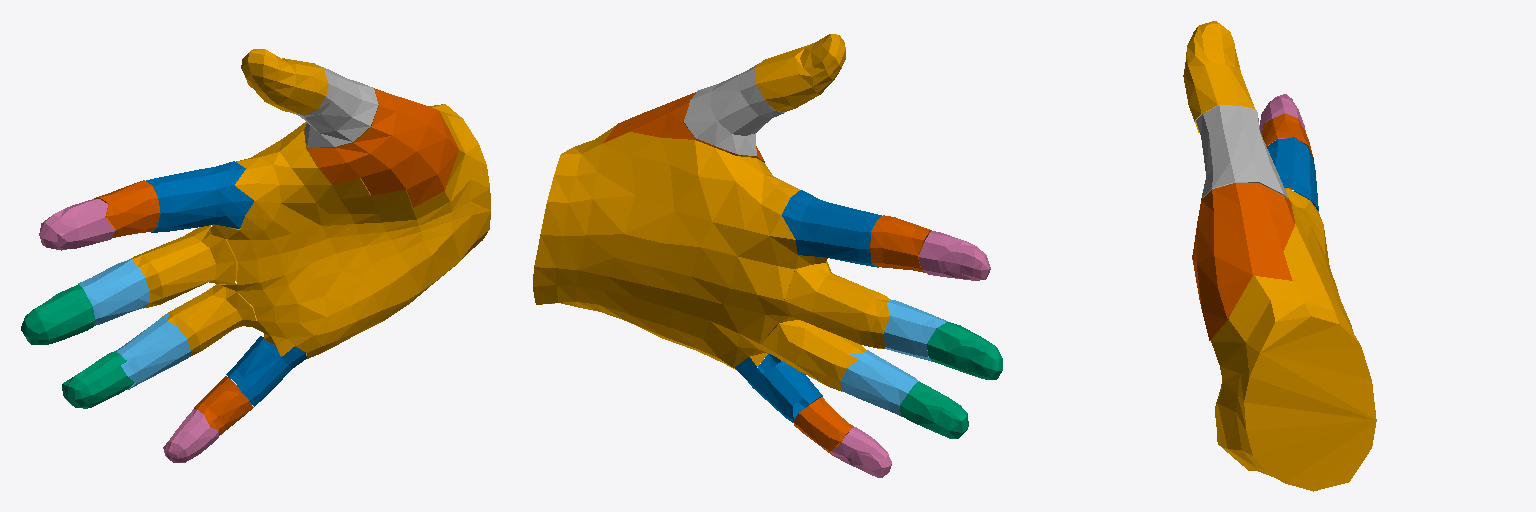
URDF robot description (mano_right):
<?xml version="1.0" ?>
<robot name="mano_right" version="1.0">
  <link name="palm">
    <inertial>
      <mass value="1.38"/>
      <inertia ixx="5.2623e-05" ixy="-8.4e-07" ixz="-9.77e-07" iyy="0.000138732" iyz="-1.535e-06" izz="9.6299e-05"/>
    </inertial>
    <visual name="palm">
      <origin xyz="0.0 0.0 0.0" rpy="0.0 0.0 0.0"/>
      <geometry>
        <mesh filename="./meshes/vis_palm.stl"/>
      </geometry>
    </visual>
    <collision name="palm">
      <origin xyz="0.0 0.0 0.0" rpy="0.0 0.0 0.0"/>
      <geometry>
        <mesh filename="./meshes/col_palm.stl"/>
      </geometry>
    </collision>
  </link>
  <joint name="palm_n0" type="fixed">
    <origin xyz="-0.054 -0.002 0.0" rpy="1.571 0.0 0.0"/>
    <parent link="palm"/>
    <child link="palm_dummy"/>
  </joint>
  <link name="palm_dummy"/>
  <joint name="palm_normal" type="fixed">
    <origin xyz="-0.00637 0.0 0.01446" rpy="0.0 -0.0 0.0"/>
    <parent link="palm_dummy"/>
    <child link="palm_dummy2"/>
  </joint>
  <link name="palm_dummy2"/>
  <link name="index1_y"/>
  <link name="index1">
    <inertial>
      <mass value="0.1"/>
      <inertia ixx="7.79e-07" ixy="0.0" ixz="0.0" iyy="7.79e-07" iyz="0.0" izz="2.34e-07"/>
    </inertial>
    <visual name="index1">
      <origin xyz="0.0 0.0 6.640738306473715e-19" rpy="-1.5708017159651948 -0.057486263518140845 3.1358600647747914"/>
      <geometry>
        <mesh filename="./meshes/vis_index1.stl"/>
      </geometry>
    </visual>
    <collision name="index1">
      <origin xyz="0.016251407565293894 -0.0008692487532202749 -0.0030226079388060954" rpy="-1.750979988777681 0.10812967952372607 -1.664841237676654"/>
      <geometry>
        <cylinder radius="0.008" length="0.03"/>
      </geometry>
    </collision>
  </link>
  <link name="index2">
    <inertial>
      <mass value="0.075"/>
      <inertia ixx="2.8e-07" ixy="0.0" ixz="0.0" iyy="2.8e-07" iyz="0.0" izz="1.57e-07"/>
    </inertial>
    <visual name="index2">
      <origin xyz="-1.3877787807814457e-17 0.0 -8.673617379884035e-19" rpy="-1.570939050554094 -0.05784684019623524 3.136079605645372"/>
      <geometry>
        <mesh filename="./meshes/vis_index2.stl"/>
      </geometry>
    </visual>
    <collision name="index2">
      <origin xyz="0.011223571320901935 0.00017731718179460508 -2.328447496400608e-06" rpy="-1.570776387214974 -0.058305435818341154 -1.5715541770352468"/>
      <geometry>
        <cylinder radius="0.008" length="0.018"/>
      </geometry>
    </collision>
  </link>
  <link name="index3">
    <inertial>
      <mass value="0.03"/>
      <inertia ixx="2.59e-07" ixy="0.0" ixz="0.0" iyy="2.59e-07" iyz="0.0" izz="9.3e-08"/>
    </inertial>
    <visual name="index3">
      <origin xyz="0.0 0.0 0.0" rpy="-1.570705010915804 -0.05900028055626145 3.1361886226697298"/>
      <geometry>
        <mesh filename="./meshes/vis_index3.stl"/>
      </geometry>
    </visual>
    <collision name="index3">
      <origin xyz="0.013000406267838374 0.000994704393106828 2.0367320369514474e-07" rpy="-1.591650457972706 -0.036189062171319904 -1.523746877955797"/>
      <geometry>
        <cylinder radius="0.007" length="0.023"/>
      </geometry>
    </collision>
  </link>
  <link name="middle1_y"/>
  <link name="middle1">
    <inertial>
      <mass value="0.1"/>
      <inertia ixx="7.01e-07" ixy="0.0" ixz="0.0" iyy="7.01e-07" iyz="0.0" izz="2.25e-07"/>
    </inertial>
    <visual name="middle1">
      <origin xyz="0.0 1.734723475976807e-18 -8.673617379884035e-19" rpy="-1.5610100998257084 -0.0537098788242584 2.970714580051759"/>
      <geometry>
        <mesh filename="./meshes/vis_middle1.stl"/>
      </geometry>
    </visual>
    <collision name="middle1">
      <origin xyz="0.016072690120068994 -0.00018405787003569624 -0.0016231928427376098" rpy="-1.6846698748117068 0.06961903138315323 -1.5721058729968704"/>
      <geometry>
        <cylinder radius="0.008" length="0.029"/>
      </geometry>
    </collision>
  </link>
  <link name="middle2">
    <inertial>
      <mass value="0.075"/>
      <inertia ixx="3.15e-07" ixy="0.0" ixz="0.0" iyy="3.15e-07" iyz="0.0" izz="1.65e-07"/>
    </inertial>
    <visual name="middle2">
      <origin xyz="-2.7755575615628914e-17 -1.734723475976807e-18 8.673617379884035e-19" rpy="-1.5614269699136616 -0.05318068626635879 2.969941612588744"/>
      <geometry>
        <mesh filename="./meshes/vis_middle2.stl"/>
      </geometry>
    </visual>
    <collision name="middle2">
      <origin xyz="0.01203596562465758 7.942331888032852e-05 -0.00035947658961115256" rpy="-1.5705713889744408 -0.06421602712315518 -1.5711846195065278"/>
      <geometry>
        <cylinder radius="0.008" length="0.019"/>
      </geometry>
    </collision>
  </link>
  <link name="middle3">
    <inertial>
      <mass value="0.03"/>
      <inertia ixx="2.96e-07" ixy="0.0" ixz="0.0" iyy="2.96e-07" iyz="0.0" izz="9.8e-08"/>
    </inertial>
    <visual name="middle3">
      <origin xyz="0.0 3.469446951953614e-18 8.673617379884035e-19" rpy="-1.5617995591237113 -0.05324637192871311 2.969951226852396"/>
      <geometry>
        <mesh filename="./meshes/vis_middle3.stl"/>
      </geometry>
    </visual>
    <collision name="middle3">
      <origin xyz="0.012999999004413423 -5.091829999437302e-06 -0.000999999979258612" rpy="-1.6483324722821673 0.030946694520907068 -1.5414265478654203"/>
      <geometry>
        <cylinder radius="0.007" length="0.024"/>
      </geometry>
    </collision>
  </link>
  <link name="pinky1_y"/>
  <link name="pinky1">
    <inertial>
      <mass value="0.8"/>
      <inertia ixx="2.1e-07" ixy="0.0" ixz="0.0" iyy="2.1e-07" iyz="0.0" izz="1.15e-07"/>
    </inertial>
    <visual name="pinky1">
      <origin xyz="-2.7755575615628914e-17 3.2526065174565133e-18 0.0" rpy="-1.5511301853736772 -0.03008307255032224 2.562933336960624"/>
      <geometry>
        <mesh filename="./meshes/vis_pinky1.stl"/>
      </geometry>
    </visual>
    <collision name="pinky1">
      <origin xyz="0.010064782709332606 0.000825401481627012 -0.00013733684154931025" rpy="-1.6094729062854525 0.007745155228131785 -1.5158358874542248"/>
      <geometry>
        <cylinder radius="0.007" length="0.019"/>
      </geometry>
    </collision>
  </link>
  <link name="pinky2">
    <inertial>
      <mass value="0.055"/>
      <inertia ixx="1.62e-07" ixy="0.0" ixz="0.0" iyy="1.62e-07" iyz="0.0" izz="1.04e-07"/>
    </inertial>
    <visual name="pinky2">
      <origin xyz="1.3877787807814457e-17 -1.179069862577986e-18 1.734723475976807e-18" rpy="-1.5513111193803546 -0.03020621943054652 2.562930596453396"/>
      <geometry>
        <mesh filename="./meshes/vis_pinky2.stl"/>
      </geometry>
    </visual>
    <collision name="pinky2">
      <origin xyz="0.009034827415624998 -0.0004979846865985825 -0.00035200116730547666" rpy="-1.5698216312847317 -0.06748068434619263 -1.5718840222025539"/>
      <geometry>
        <cylinder radius="0.007" length="0.015"/>
      </geometry>
    </collision>
  </link>
  <link name="pinky3">
    <inertial>
      <mass value="0.02"/>
      <inertia ixx="1.27e-07" ixy="0.0" ixz="0.0" iyy="1.27e-07" iyz="0.0" izz="5.8e-08"/>
    </inertial>
    <visual name="pinky3">
      <origin xyz="1.3877787807814457e-17 2.8417955380381776e-19 0.0" rpy="-1.5513226752598284 -0.03028092267935988 2.563894101777485"/>
      <geometry>
        <mesh filename="./meshes/vis_pinky3.stl"/>
      </geometry>
    </visual>
    <collision name="pinky3">
      <origin xyz="0.009999591823954044 -0.0010040733602824804 -2.0367320369525809e-07" rpy="-1.5408609538639328 -0.11475331256989224 -1.63981123625247"/>
      <geometry>
        <cylinder radius="0.006" length="0.018"/>
      </geometry>
    </collision>
  </link>
  <link name="ring1_y"/>
  <link name="ring1">
    <inertial>
      <mass value="0.1"/>
      <inertia ixx="5.44e-07" ixy="0.0" ixz="0.0" iyy="5.44e-07" iyz="0.0" izz="2.04e-07"/>
    </inertial>
    <visual name="ring1">
      <origin xyz="0.0 0.0 0.0" rpy="-1.549930616763803 -0.0658397627278577 2.8275616087261786"/>
      <geometry>
        <mesh filename="./meshes/vis_ring1.stl"/>
      </geometry>
    </visual>
    <collision name="ring1">
      <origin xyz="0.013953412685973492 -0.0019758099946853773 -0.0023234563219082273" rpy="-1.7115713691807355 0.07598289932535725 -1.7180895723953737"/>
      <geometry>
        <cylinder radius="0.008" length="0.026"/>
      </geometry>
    </collision>
  </link>
  <link name="ring2">
    <inertial>
      <mass value="0.075"/>
      <inertia ixx="3.68e-07" ixy="0.0" ixz="0.0" iyy="3.68e-07" iyz="0.0" izz="1.75e-07"/>
    </inertial>
    <visual name="ring2">
      <origin xyz="0.0 -4.336808689942018e-19 0.0" rpy="-1.550174638994129 -0.06519375095904853 2.8272120153716616"/>
      <geometry>
        <mesh filename="./meshes/vis_ring2.stl"/>
      </geometry>
    </visual>
    <collision name="ring2">
      <origin xyz="0.012320641355847671 0.000342470086276713 0.0002907074484452807" rpy="-1.5715550236130327 -0.09336298661990886 -1.5704557164791255"/>
      <geometry>
        <cylinder radius="0.008" length="0.02"/>
      </geometry>
    </collision>
  </link>
  <link name="ring3">
    <inertial>
      <mass value="0.03"/>
      <inertia ixx="2.73e-07" ixy="0.0" ixz="0.0" iyy="2.73e-07" iyz="0.0" izz="9.5e-08"/>
    </inertial>
    <visual name="ring3">
      <origin xyz="-2.7755575615628914e-17 2.6020852139652106e-18 0.0" rpy="-1.5499582192033026 -0.06473346436630288 2.8265175132789566"/>
      <geometry>
        <mesh filename="./meshes/vis_ring3.stl"/>
      </geometry>
    </visual>
    <collision name="ring3">
      <origin xyz="0.012999999004413391 -5.0918299994377434e-06 -0.0009999999792586131" rpy="-1.6236084859696813 -0.020678025218849455 -1.5895513697562302"/>
      <geometry>
        <cylinder radius="0.007" length="0.023"/>
      </geometry>
    </collision>
  </link>
  <link name="thumb1_x"/>
  <link name="thumb1_y"/>
  <link name="thumb1">
    <inertial>
      <mass value="0.125"/>
      <inertia ixx="8.55e-07" ixy="0.0" ixz="0.0" iyy="8.55e-07" iyz="0.0" izz="3.49e-07"/>
    </inertial>
    <visual name="thumb1">
      <origin xyz="-6.938893903907228e-18 0.0 5.204170427930421e-18" rpy="-2.519502652119659 0.37078574417049265 -2.6454005432135674"/>
      <geometry>
        <mesh filename="./meshes/vis_thumb1.stl"/>
      </geometry>
    </visual>
    <collision name="thumb1">
      <origin xyz="0.014459799348585798 0.0002969722042811933 -0.005275036522008336" rpy="-2.1815682453620857 0.8750738015297095 -2.042989529966102"/>
      <geometry>
        <cylinder radius="0.009" length="0.028"/>
      </geometry>
    </collision>
  </link>
  <link name="thumb2_y"/>
  <link name="thumb2">
    <inertial>
      <mass value="0.08"/>
      <inertia ixx="6.18e-07" ixy="0.0" ixz="0.0" iyy="6.18e-07" iyz="0.0" izz="3.07e-07"/>
    </inertial>
    <visual name="thumb2">
      <origin xyz="0.0 -1.734723475976807e-18 3.469446951953614e-18" rpy="-2.5191294479658772 0.370704633086108 -2.646305713990214"/>
      <geometry>
        <mesh filename="./meshes/vis_thumb2.stl"/>
      </geometry>
    </visual>
    <collision name="thumb2">
      <origin xyz="0.013925308909435637 0.00025964686841129365 -0.00013548166118211268" rpy="-1.5704566560179543 0.8738524928398956 -1.5708768265018667"/>
      <geometry>
        <cylinder radius="0.009" length="0.022"/>
      </geometry>
    </collision>
  </link>
  <link name="thumb3">
    <inertial>
      <mass value="0.06"/>
      <inertia ixx="8.07e-07" ixy="0.0" ixz="0.0" iyy="8.07e-07" iyz="0.0" izz="2.05e-07"/>
    </inertial>
    <visual name="thumb3">
      <origin xyz="1.3877787807814457e-17 5.204170427930421e-18 -5.204170427930421e-18" rpy="-2.519699323663934 0.3708079699855004 -2.646717137540718"/>
      <geometry>
        <mesh filename="./meshes/vis_thumb3.stl"/>
      </geometry>
    </visual>
    <collision name="thumb3">
      <origin xyz="0.01699999875551679 -6.517542408402159e-06 -0.00199999995851723" rpy="-1.7257968219290234 0.9043310237511367 -1.6678934474237674"/>
      <geometry>
        <cylinder radius="0.008" length="0.031"/>
      </geometry>
    </collision>
  </link>
  <joint name="j_index1y" type="revolute">
    <origin xyz="-0.088 -0.005 0.021" rpy="-1.5704145949538533 0.006351333953667675 -3.083565015870959"/>
    <axis xyz="0.0 0.0 1.0"/>
    <parent link="palm"/>
    <child link="index1_y"/>
    <limit effort="0.95" lower="-0.149" upper="0.549" velocity="8.48"/>
  </joint>
  <joint name="j_index1z" type="revolute">
    <origin xyz="0.0 0.0 0.0" rpy="0.0 0.0 0.0"/>
    <axis xyz="0.0 -1.0 0.0"/>
    <parent link="index1_y"/>
    <child link="index1"/>
    <limit effort="0.95" lower="-0.0" upper="1.5708" velocity="8.48"/>
  </joint>
  <joint name="j_index2z" type="revolute">
    <origin xyz="0.03226866542007503 -0.0027106091334550275 -0.006032066820989651" rpy="3.292364035772626e-21 -1.0810912229570374e-18 8.83465581440606e-19"/>
    <axis xyz="0.0 -1.0 0.0"/>
    <parent link="index1"/>
    <child link="index2"/>
    <limit effort="0.95" lower="-0.0" upper="1.7" velocity="8.48"/>
  </joint>
  <joint name="j_index3z" type="revolute">
    <origin xyz="0.022447142641803877 0.0003546343635892138 -4.656894992799941e-06" rpy="3.292364035772626e-21 -1.0810912229570374e-18 1.6103843452202556e-20"/>
    <axis xyz="0.0 -1.0 0.0"/>
    <parent link="index2"/>
    <child link="index3"/>
    <limit effort="0.95" lower="-0.0" upper="1.5708" velocity="8.48"/>
  </joint>
  <joint name="index_ft_0" type="fixed">
    <origin xyz="-0.01957 -0.00501 0.0" rpy="1.571 0.0 0.0"/>
    <parent link="index3"/>
    <child link="i_ft_d0"/>
  </joint>
  <joint name="index_ft" type="fixed">
    <origin xyz="0.04337 0.00627 -0.005002028127308367" rpy="-1.571 1.1427306284464894e-18 6.9031882767964374e-18"/>
    <parent link="i_ft_d0"/>
    <child link="i_ft_d1"/>
  </joint>
  <link name="i_ft_d0"/>
  <link name="i_ft_d1"/>
  <joint name="j_middle1y" type="revolute">
    <origin xyz="-0.095 -0.001 -0.003" rpy="-1.5604348799175514 0.1703316384375569 -3.0861488573810596"/>
    <axis xyz="0.0 0.0 1.0"/>
    <parent link="palm"/>
    <child link="middle1_y"/>
    <limit effort="0.95" lower="-0.27" upper="0.43" velocity="8.48"/>
  </joint>
  <joint name="j_middle1z" type="revolute">
    <origin xyz="0.0 0.0 0.0" rpy="-4.784239278720292e-17 1.5415251880448333e-16 -2.2766897347813412e-17"/>
    <axis xyz="0.0 -1.0 0.0"/>
    <parent link="middle1_y"/>
    <child link="middle1"/>
    <limit effort="0.95" lower="-0." upper="1.5708" velocity="8.48"/>
  </joint>
  <joint name="j_middle2z" type="revolute">
    <origin xyz="0.031155289679026477 -0.00023292748396321235 -0.0032083749474087825" rpy="-2.037880144919665e-18 3.3185257666311876e-18 1.4871705453224863e-17"/>
    <axis xyz="0.0 -1.0 0.0"/>
    <parent link="middle1"/>
    <child link="middle2"/>
    <limit effort="0.95" lower="-0." upper="1.7" velocity="8.48"/>
  </joint>
  <joint name="j_middle3z" type="revolute">
    <origin xyz="0.02319108767986333 0.00015281411750072207 0.0003874275033886338" rpy="1.381175528541728e-18 2.7304225978649645e-18 -2.2766897347813412e-17"/>
    <axis xyz="0.0 -1.0 0.0"/>
    <parent link="middle2"/>
    <child link="middle3"/>
    <limit effort="0.95" lower="-0." upper="1.5708" velocity="8.48"/>
  </joint>
  <joint name="middle_ft_0" type="fixed">
    <origin xyz="-0.02009 -0.00519 0.0" rpy="1.571 0.0 0.0"/>
    <parent link="middle3"/>
    <child link="m_ft_d0"/>
  </joint>
  <joint name="middle_ft" type="fixed">
    <origin xyz="0.04539 0.00514 -0.005181816303454909" rpy="-1.571 0.0 0.0"/>
    <parent link="m_ft_d0"/>
    <child link="m_ft_d1"/>
  </joint>
  <link name="m_ft_d0"/>
  <link name="m_ft_d1"/>
  <joint name="j_ring1y" type="revolute">
    <origin xyz="-0.082 -0.004 -0.027" rpy="-1.548889257896377 0.3129321517245829 -3.0693829508852963"/>
    <axis xyz="0.0 0.0 1.0"/>
    <parent link="palm"/>
    <child link="ring1_y"/>
    <limit effort="0.95" lower="-0.4" upper="0.3" velocity="8.48"/>
  </joint>
  <joint name="j_ring1z" type="revolute">
    <origin xyz="0.0 0.0 0.0" rpy="0.0 0.0 0.0"/>
    <axis xyz="0.0 -1.0 0.0"/>
    <parent link="ring1_y"/>
    <child link="ring1"/>
    <limit effort="0.95" lower="-0.0" upper="1.5708" velocity="8.48"/>
  </joint>
  <joint name="j_ring2z" type="revolute">
    <origin xyz="0.027929884210287415 -0.003952171002390184 -0.003647178686026161" rpy="-1.5999845841701573e-18 1.0979440290382384e-17 1.7874341583869335e-17"/>
    <axis xyz="0.0 -1.0 0.0"/>
    <parent link="ring1"/>
    <child link="ring2"/>
    <limit effort="0.95" lower="-0.0" upper="1.7" velocity="8.48"/>
  </joint>
  <joint name="j_ring3z" type="revolute">
    <origin xyz="0.024367038360698465 -0.00029560642797825387 -0.00040007295333075506" rpy="1.5308908501504744e-18 -5.034483976744698e-18 1.7874341583869335e-17"/>
    <axis xyz="0.0 -1.0 0.0"/>
    <parent link="ring2"/>
    <child link="ring3"/>
    <limit effort="0.95" lower="-0.0" upper="1.5708" velocity="8.48"/>
  </joint>
  <joint name="ring_ft_0" type="fixed">
    <origin xyz="-0.01771 -0.00587 0.001" rpy="1.571 0.0 0.0"/>
    <parent link="ring3"/>
    <child link="r_ft_d0"/>
  </joint>
  <joint name="ring_ft" type="fixed">
    <origin xyz="0.04195 0.00487 -0.00486258218353349" rpy="-1.571 7.73745279984852e-17 -1.954199600729421e-17"/>
    <parent link="r_ft_d0"/>
    <child link="r_ft_d1"/>
  </joint>
  <link name="r_ft_d0"/>
  <link name="r_ft_d1"/>
  <joint name="j_pinky1y" type="revolute">
    <origin xyz="-0.069 -0.01 -0.043" rpy="-1.5476085198379512 0.5775795867282577 -3.098470351218533"/>
    <axis xyz="0.0 0.0 1.0"/>
    <parent link="palm"/>
    <child link="pinky1_y"/>
    <limit effort="0.95" lower="-0.7" upper="0.0" velocity="8.48"/>
  </joint>
  <joint name="j_pinky1z" type="revolute">
    <origin xyz="0.0 0.0 0.0" rpy="0.0 0.0 0.0"/>
    <axis xyz="0.0 -1.0 0.0"/>
    <parent link="pinky1_y"/>
    <child link="pinky1"/>
    <limit effort="0.95" lower="-0.0" upper="1.5708" velocity="8.48"/>
  </joint>
  <joint name="j_pinky2z" type="revolute">
    <origin xyz="0.021211651159132608 0.0016314416940741115 -0.0011850118573684615" rpy="2.466067195628785e-18 -5.822474475930197e-18 2.4482080331734343e-17"/>
    <axis xyz="0.0 -1.0 0.0"/>
    <parent link="pinky1"/>
    <child link="pinky2"/>
    <limit effort="0.95" lower="-0.0" upper="1.7" velocity="8.48"/>
  </joint>
  <joint name="j_pinky3z" type="revolute">
    <origin xyz="0.019050715722402564 5.8055332906981854e-05 0.00025857308932889563" rpy="1.23764283276539e-19 1.4355929225448104e-18 2.4482080331734343e-17"/>
    <axis xyz="0.0 -1.0 0.0"/>
    <parent link="pinky2"/>
    <child link="pinky3"/>
    <limit effort="0.95" lower="-0.0" upper="1.5708" velocity="8.48"/>
  </joint>
  <joint name="pinky_ft_0" type="fixed">
    <origin xyz="-0.01576 -0.00608 0.001" rpy="1.571 0.0 0.0"/>
    <parent link="pinky3"/>
    <child link="p_ft_d0"/>
  </joint>
  <joint name="pinky_ft" type="fixed">
    <origin xyz="0.03436 0.00524 -0.005073376504642799" rpy="-1.571 -1.6442194626430424e-17 -2.468412607307696e-18"/>
    <parent link="p_ft_d0"/>
    <child link="p_ft_d1"/>
  </joint>
  <link name="p_ft_d0"/>
  <link name="p_ft_d1"/>
  <joint name="j_thumb1x" type="revolute">
    <origin xyz="-0.024 -0.016 0.026" rpy="1.6560550634503903 -0.4475429068878414 -1.77797692813379"/>
    <axis xyz="0.0 0.0 1.0"/>
    <parent link="palm"/>
    <child link="thumb1_x"/>
    <limit effort="0.95" lower="-1.5" upper="0.2" velocity="8.48"/>
  </joint>
  <joint name="j_thumb1y" type="revolute">
    <origin xyz="0.0 0.0 0.0" rpy="1.0790782544422821 -0.8193543144444525 0.6061453888991036"/>
    <axis xyz="0.0 0.0 1.0"/>
    <parent link="thumb1_x"/>
    <child link="thumb1_y"/>
    <limit effort="0.95" lower="-0.65" upper="0.5" velocity="8.48"/>
  </joint>
  <joint name="j_thumb1z" type="fixed">
    <origin xyz="0.0 0.0 0.0" rpy="0.0 0.0 0.0"/>
    <parent link="thumb1_y"/>
    <child link="thumb1"/>
  </joint>
  <joint name="j_thumb2y" type="revolute">
    <origin xyz="0.028834790844743732 0.0005301519990507687 -0.011544426178800936" rpy="-4.810975338710814e-16 4.932661957457779e-17 9.598483161193831e-17"/>
    <axis xyz="0.0 0.0 1.0"/>
    <parent link="thumb1"/>
    <child link="thumb2_y"/>
    <limit effort="0.95" lower="-0.20944" upper="0.20944" velocity="8.48"/>
  </joint>
  <joint name="j_thumb2z" type="revolute">
    <origin xyz="0.0 0.0 0.0" rpy="-5.113345412835021e-17 -5.769179735422398e-17 -3.2783332631921546e-17"/>
    <axis xyz="0.0 -1.0 0.0"/>
    <parent link="thumb2_y"/>
    <child link="thumb2"/>
    <limit effort="0.95" lower="-0.349" upper="1.047" velocity="8.48"/>
  </joint>
  <joint name="j_thumb3z" type="revolute">
    <origin xyz="0.02693959611075024 -0.0004997212383829313 9.18698729736548e-05" rpy="-1.207697354669395e-16 -5.36879118205101e-17 2.2727818599336284e-17"/>
    <axis xyz="0.0 -1.0 0.0"/>
    <parent link="thumb2"/>
    <child link="thumb3"/>
    <limit effort="0.95" lower="-0.175" upper="1.5" velocity="8.48"/>
  </joint>
  <joint name="thumb_ft_0" type="fixed">
    <origin xyz="-0.02625 -0.0045 -0.001" rpy="1.571 0.0 0.0"/>
    <parent link="thumb3"/>
    <child link="t_ft_d0"/>
  </joint>
  <joint name="thumb_ft" type="fixed">
    <origin xyz="0.05956 0.0055 -0.005489510654227519" rpy="-1.5709999999999997 -2.824120591590376e-17 2.4628820821208574e-17"/>
    <parent link="t_ft_d0"/>
    <child link="t_ft_d1"/>
  </joint>
  <link name="t_ft_d0"/>
  <link name="t_ft_d1"/>
</robot>

--- Facts derived from the render (not from the file) ---
Views: 3 orthographic renders of the robot side by side, from view 1: azimuth 30°, elevation 25°; view 2: azimuth 150°, elevation 25°; view 3: azimuth 270°, elevation 25°.
Model mano_right with 35 links and 34 joints (21 revolute, 13 fixed), rooted at palm, posed every joint at zero.
Links seen in each view (by area): view 1: palm, thumb1, index1, middle1, thumb3, thumb2, ring1, ring2, middle3, middle2, index3, pinky1 (+4 smaller); view 2: palm, middle1, thumb2, index1, thumb3, ring1, pinky1, middle3, ring2, index3, index2, ring3 (+4 smaller); view 3: palm, thumb1, thumb2, thumb3, index1, index2, index3.
Link boxes in pixels (box(x1,y1,x2,y2)): palm: box(211, 104, 490, 358); thumb1: box(308, 88, 458, 207); index1: box(146, 161, 253, 232); middle1: box(129, 225, 235, 308); thumb3: box(241, 49, 328, 115); thumb2: box(290, 65, 378, 147); ring1: box(161, 283, 268, 356); ring2: box(116, 312, 190, 389); middle3: box(21, 284, 95, 344); middle2: box(78, 259, 149, 325); index3: box(39, 199, 114, 250); pinky1: box(226, 336, 306, 406); palm: box(533, 126, 827, 369); middle1: box(784, 258, 890, 348); thumb2: box(684, 63, 784, 155); index1: box(782, 190, 881, 267); thumb3: box(754, 34, 845, 111); ring1: box(761, 320, 866, 391); pinky1: box(735, 354, 822, 422); middle3: box(927, 322, 1002, 379); ring2: box(840, 350, 919, 416); index3: box(918, 231, 990, 280); index2: box(870, 215, 931, 272); ring3: box(900, 382, 968, 438); palm: box(1211, 188, 1376, 491); thumb1: box(1192, 183, 1294, 340); thumb2: box(1196, 105, 1288, 198); thumb3: box(1183, 21, 1254, 132); index1: box(1267, 138, 1318, 210); index2: box(1262, 113, 1313, 189); index3: box(1260, 94, 1305, 145).
Size in the robot's own frame: 0.1929 by 0.0622 by 0.1686 metres.
Meshes: 16 distinct files referenced, 16 mesh visuals loaded (16 binary STL).
